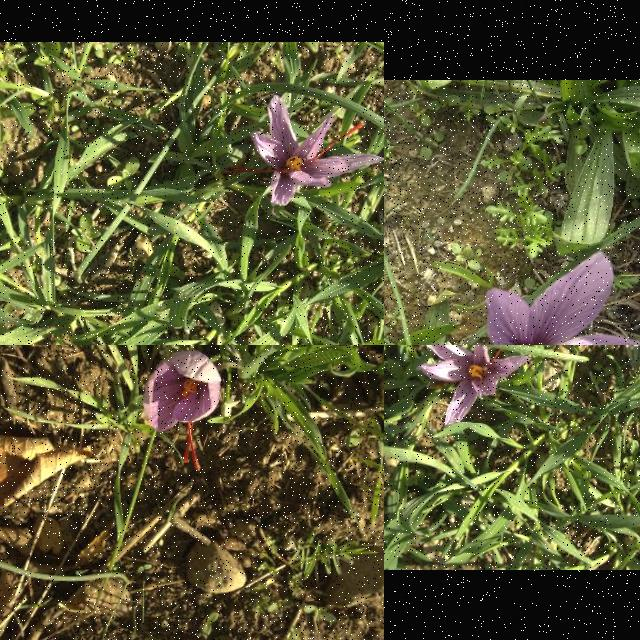flower: (395, 251, 640, 345), (232, 96, 384, 206), (418, 345, 529, 430), (142, 354, 222, 471)
